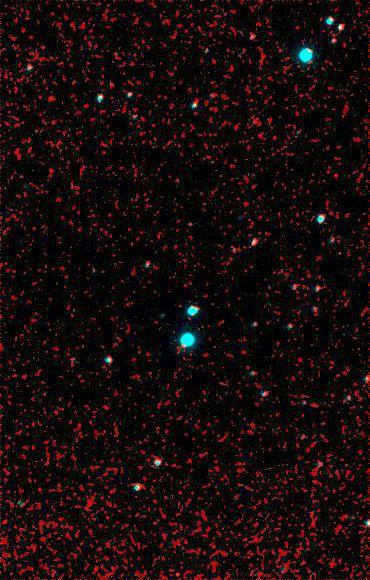star: (162, 560, 192, 580)
